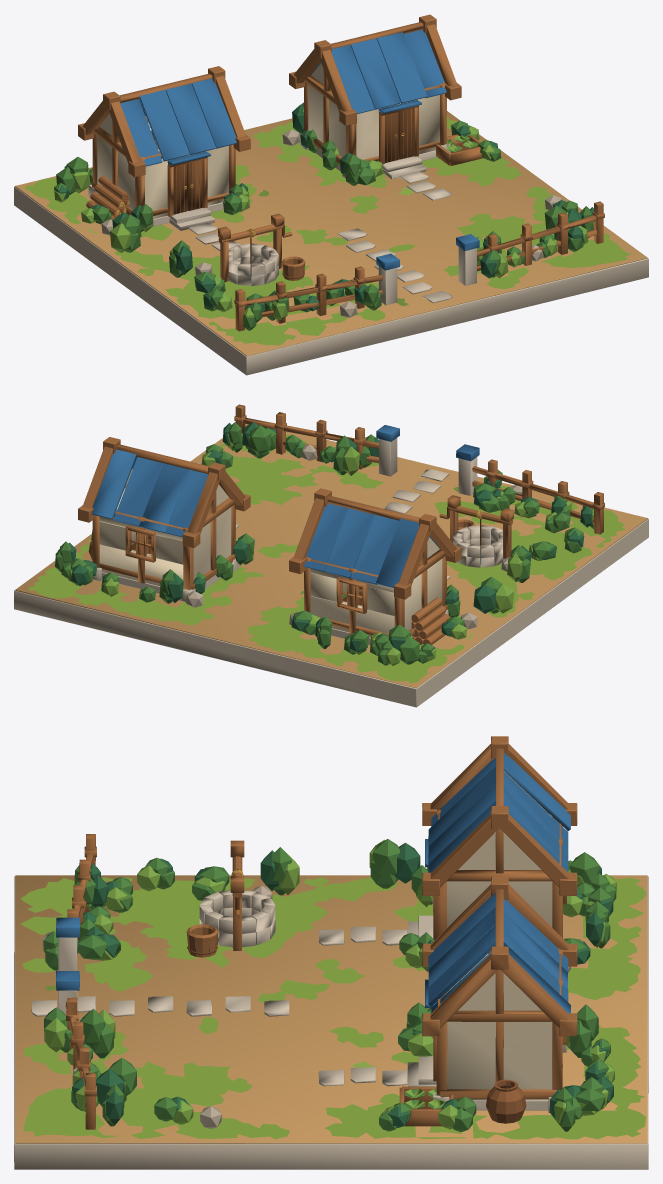
File: city-2-lod1-fde47378166c.glb
3 views of the same model, one above another, from view 1: azimuth 30°, elevation 25°; view 2: azimuth 150°, elevation 25°; view 3: azimuth 270°, elevation 25° (orthographic). The views are drawn at different scales.
Visible parts, largest first — view 1: SM_CT2_V4_Batch_1.001, SM_CT2_V4_Batch_38.001, SM_CT2_V4_Batch_0.001, SM_CT2_V4_Batch_51.001, SM_CT2_V4_Batch_37.001, SM_CT2_V4_Batch_44.001, SM_CT2_V4_Batch_4.001, SM_CT2_V4_Batch_45.001, SM_CT2_V4_Batch_46.001, SM_CT2_V4_Batch_7.001, SM_CT2_V4_Batch_47.001; view 2: SM_CT2_V4_Batch_1.001, SM_CT2_V4_Batch_38.001, SM_CT2_V4_Batch_0.001, SM_CT2_V4_Batch_51.001, SM_CT2_V4_Batch_37.001, SM_CT2_V4_Batch_44.001, SM_CT2_V4_Batch_4.001, SM_CT2_V4_Batch_46.001, SM_CT2_V4_Batch_45.001, SM_CT2_V4_Batch_47.001; view 3: SM_CT2_V4_Batch_1.001, SM_CT2_V4_Batch_51.001, SM_CT2_V4_Batch_0.001, SM_CT2_V4_Batch_38.001, SM_CT2_V4_Batch_37.001, SM_CT2_V4_Batch_44.001, SM_CT2_V4_Batch_4.001, SM_CT2_V4_Batch_45.001, SM_CT2_V4_Batch_46.001, SM_CT2_V4_Batch_41.001, SM_CT2_V4_Batch_47.001.
Part boxes in pixels (left/top/right/bottom): SM_CT2_V4_Batch_1.001: left=15, top=111, right=647, bottom=356; SM_CT2_V4_Batch_38.001: left=78, top=14, right=604, bottom=331; SM_CT2_V4_Batch_0.001: left=14, top=133, right=648, bottom=375; SM_CT2_V4_Batch_51.001: left=25, top=115, right=631, bottom=345; SM_CT2_V4_Batch_37.001: left=120, top=29, right=479, bottom=270; SM_CT2_V4_Batch_44.001: left=54, top=102, right=593, bottom=330; SM_CT2_V4_Batch_4.001: left=97, top=63, right=439, bottom=218; SM_CT2_V4_Batch_45.001: left=54, top=126, right=593, bottom=324; SM_CT2_V4_Batch_46.001: left=57, top=104, right=593, bottom=311; SM_CT2_V4_Batch_7.001: left=116, top=108, right=471, bottom=278; SM_CT2_V4_Batch_47.001: left=101, top=129, right=561, bottom=317; SM_CT2_V4_Batch_1.001: left=15, top=424, right=647, bottom=688; SM_CT2_V4_Batch_38.001: left=78, top=404, right=604, bottom=644; SM_CT2_V4_Batch_0.001: left=14, top=438, right=648, bottom=707; SM_CT2_V4_Batch_51.001: left=28, top=434, right=625, bottom=683; SM_CT2_V4_Batch_37.001: left=92, top=425, right=479, bottom=587; SM_CT2_V4_Batch_44.001: left=55, top=422, right=594, bottom=665; SM_CT2_V4_Batch_4.001: left=99, top=469, right=442, bottom=637; SM_CT2_V4_Batch_46.001: left=68, top=422, right=592, bottom=652; SM_CT2_V4_Batch_45.001: left=57, top=426, right=593, bottom=665; SM_CT2_V4_Batch_47.001: left=186, top=444, right=522, bottom=628; SM_CT2_V4_Batch_1.001: left=15, top=875, right=647, bottom=1143; SM_CT2_V4_Batch_51.001: left=20, top=877, right=646, bottom=1139; SM_CT2_V4_Batch_0.001: left=14, top=876, right=648, bottom=1169; SM_CT2_V4_Batch_38.001: left=65, top=736, right=577, bottom=1129; SM_CT2_V4_Batch_37.001: left=56, top=752, right=570, bottom=1013; SM_CT2_V4_Batch_44.001: left=43, top=839, right=616, bottom=1131; SM_CT2_V4_Batch_4.001: left=447, top=771, right=552, bottom=1100; SM_CT2_V4_Batch_45.001: left=44, top=839, right=616, bottom=1129; SM_CT2_V4_Batch_46.001: left=44, top=842, right=613, bottom=1127; SM_CT2_V4_Batch_41.001: left=486, top=1079, right=526, bottom=1123; SM_CT2_V4_Batch_47.001: left=42, top=885, right=570, bottom=1128.
Bounding box in the file's own units: 10 × 3.32 × 10.
Materials: 16 (5 with a texture image).
